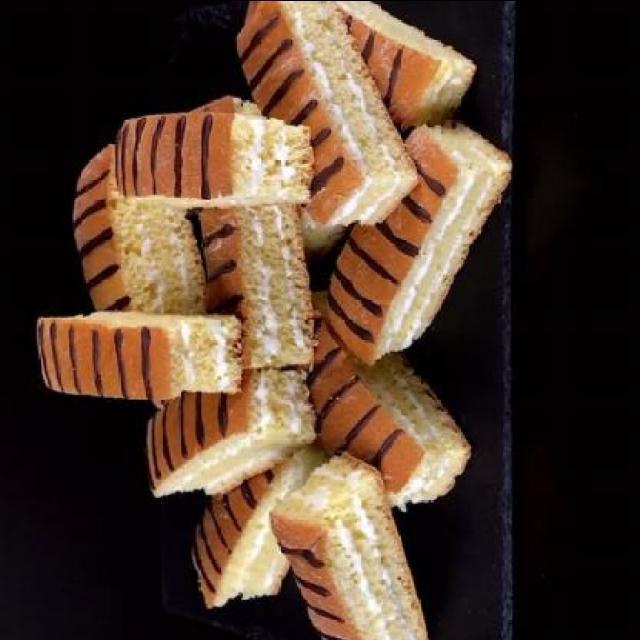Merendine packaged: (322, 119, 507, 350), (233, 1, 410, 224), (274, 448, 422, 636), (141, 369, 310, 502), (34, 304, 242, 404), (110, 113, 314, 210)
